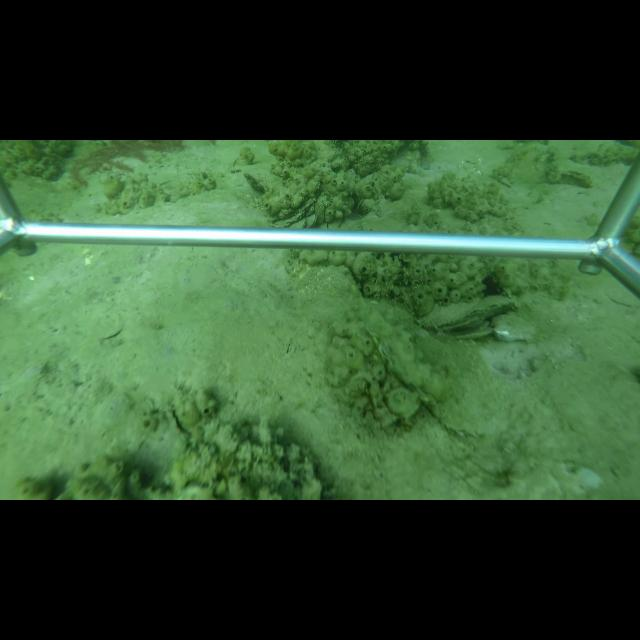Oyster-Closed: (358, 302, 484, 441), (416, 292, 518, 330), (268, 169, 324, 227), (242, 171, 267, 194), (368, 173, 382, 205)
Oyster-Open: (437, 319, 493, 339)
